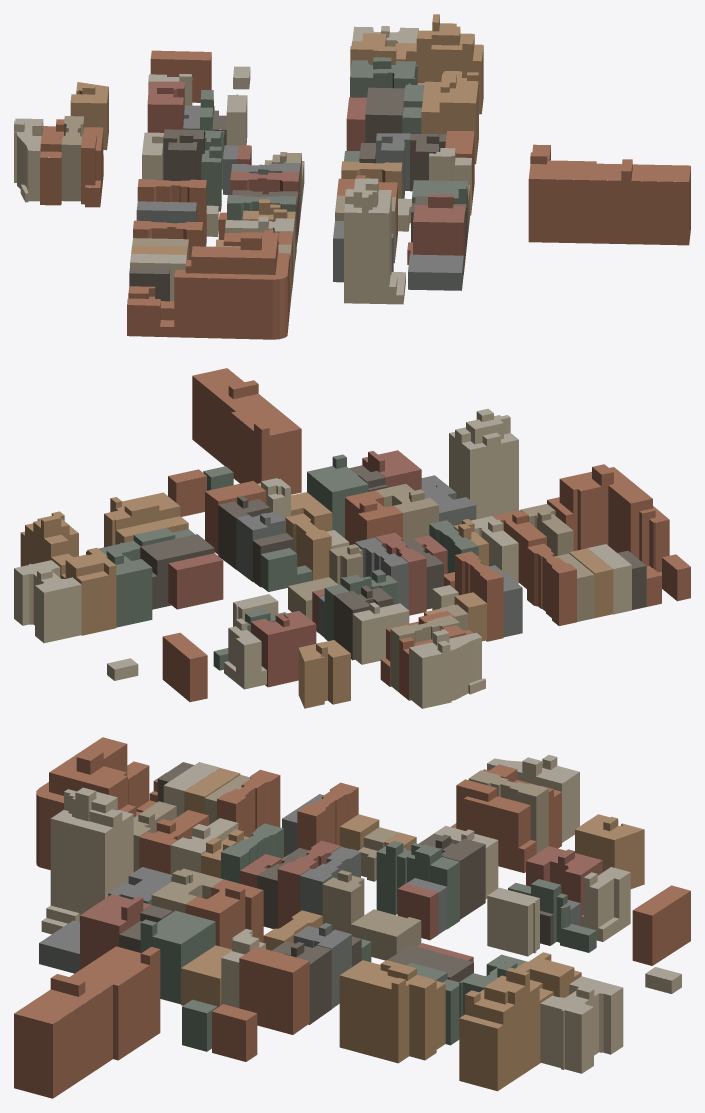
File: tile--3_3.glb
3 renders of one model, top to bottom at view 1: azimuth 30°, elevation 25°; view 2: azimuth 150°, elevation 25°; view 3: azimuth 270°, elevation 25°, orthographic. The views are drawn at different scales.
Visible parts, largest first — view 1: wall, roof; view 2: wall, roof; view 3: wall, roof.
Boxes of the visible parts, left/top/right/bottom form: wall: left=14, top=17, right=690, bottom=339; roof: left=14, top=14, right=690, bottom=326; wall: left=14, top=376, right=690, bottom=708; roof: left=14, top=368, right=690, bottom=685; wall: left=14, top=744, right=690, bottom=1098; roof: left=14, top=737, right=690, bottom=1028.
Size of the model in its own units: 233 by 48.59 by 219.
